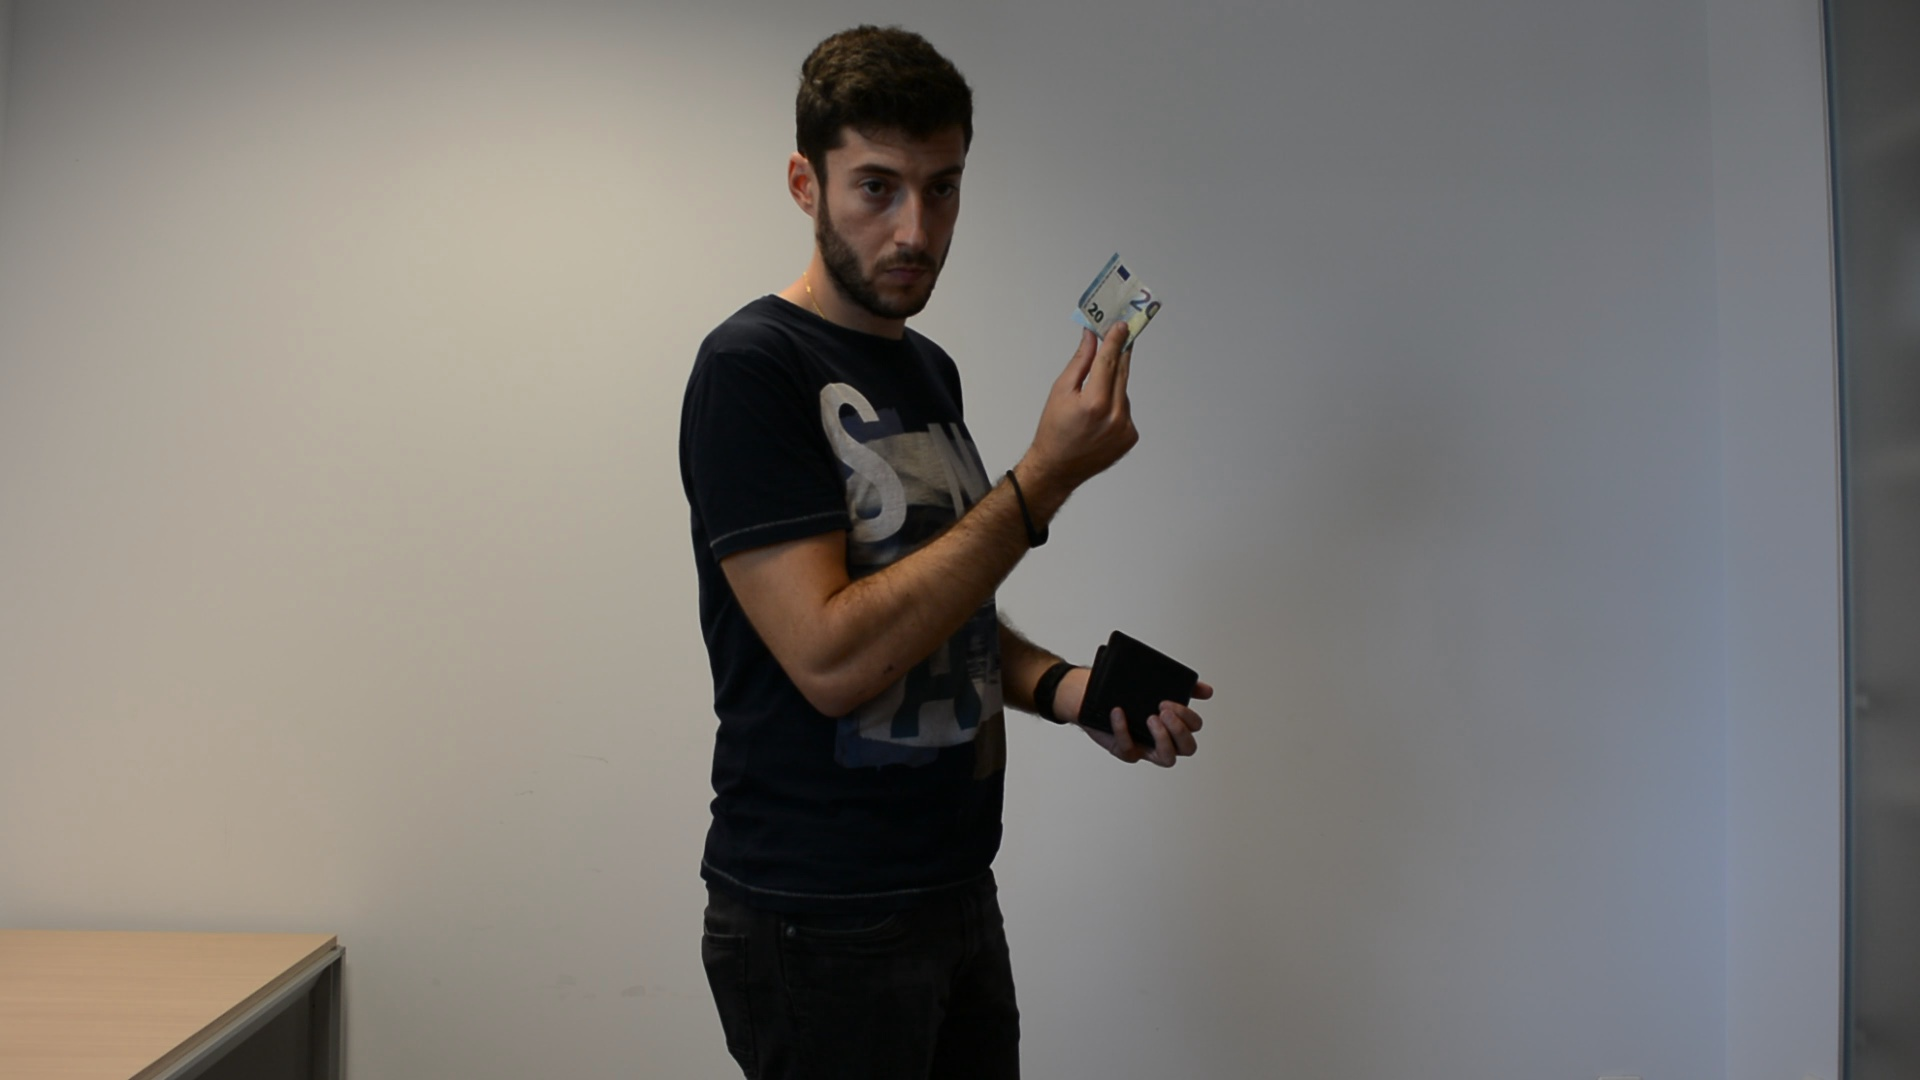billete: (1065, 251, 1174, 360)
monedero: (1069, 624, 1203, 756)
